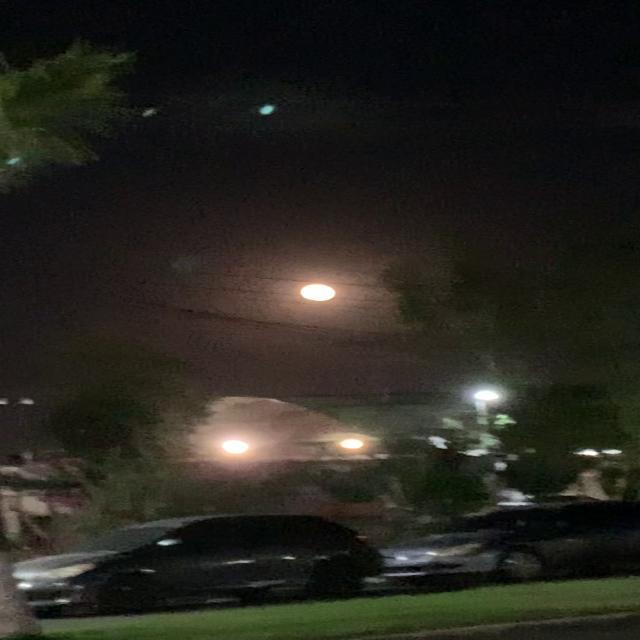moon: (285, 275, 340, 305)
